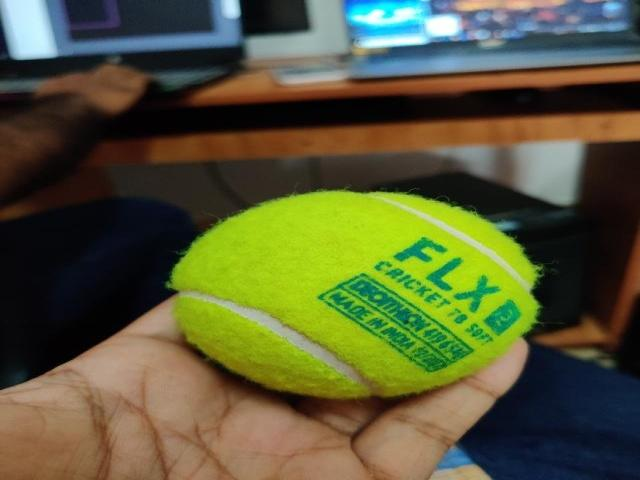tennis-ball: (175, 192, 537, 399)
